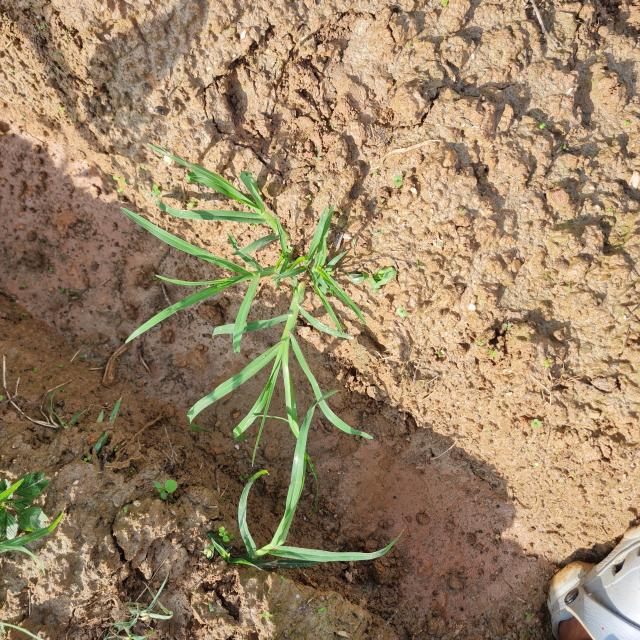weed: (120, 136, 426, 572)
